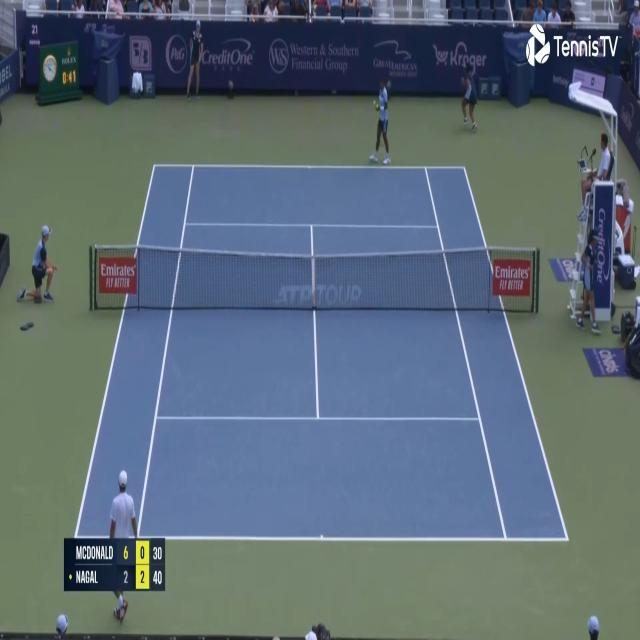tennis-player: (106, 469, 141, 627), (368, 74, 392, 168)
